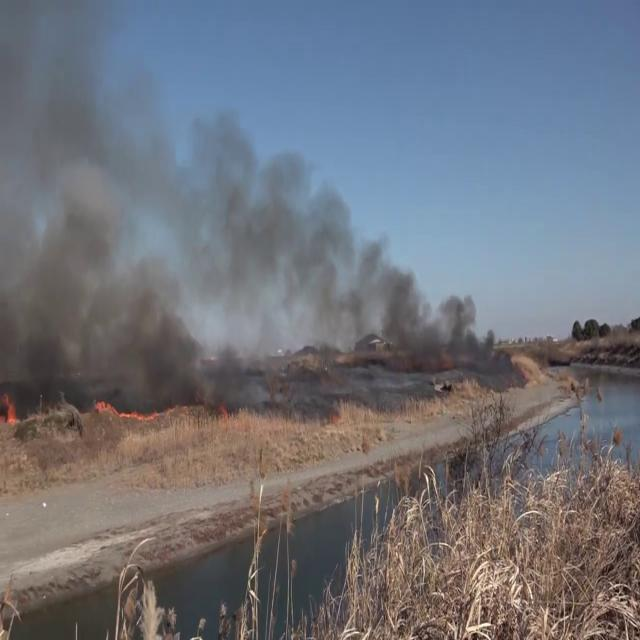Fire: (0, 383, 18, 428)
Smoke: (0, 79, 513, 405)
